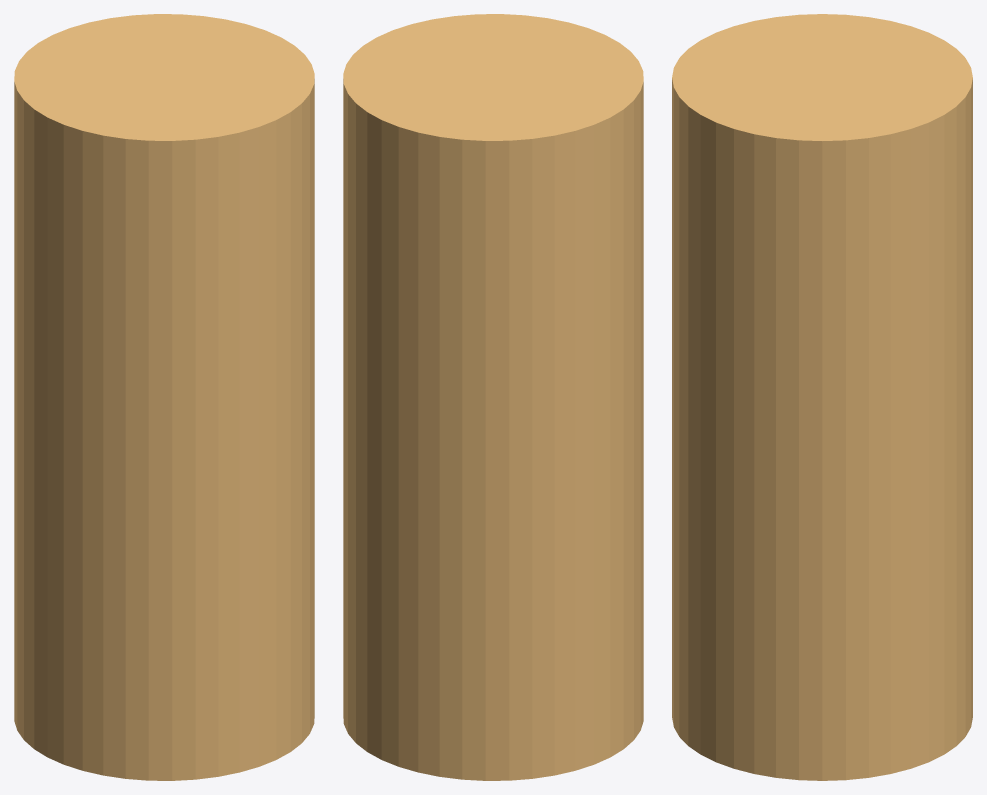
File: med_pill_bottle_0039.glb
3 views of the same model, side by side, from view 1: azimuth 30°, elevation 25°; view 2: azimuth 150°, elevation 25°; view 3: azimuth 270°, elevation 25° (orthographic).
Visible parts, largest first — view 1: z-up-to-y-up; view 2: z-up-to-y-up; view 3: z-up-to-y-up.
Part boxes in pixels (x1,y1,x2,y2): z-up-to-y-up: (14,14,314,780); z-up-to-y-up: (343,14,643,780); z-up-to-y-up: (672,14,972,780).
Bounding box in the file's own units: 0.0427 × 0.1002 × 0.0427.
